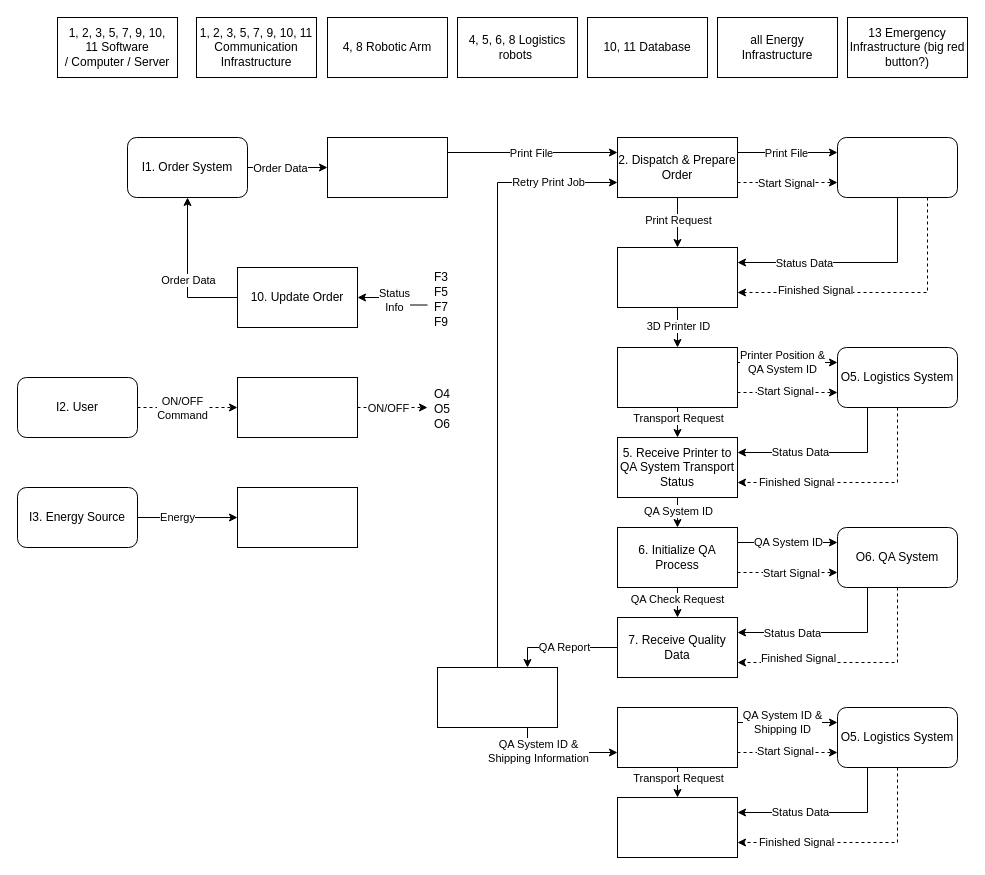
This 985x875 diagram has some shape labels left out. The shapes that lost their labels are listed below. From the top down, each one's centre as x and y in pixels, then its label:
At (x=387, y=167): "1. Receive Print Order".
At (x=897, y=167): "O4. 3D Printer".
At (x=677, y=277): "3. Receive Printing Status".
At (x=677, y=377): "4. Pick up Printed Product".
At (x=297, y=407): "13. Receive emergency Signal".
At (x=297, y=517): "12. Receive Electricity".
At (x=497, y=697): "11. Handle Quality Information".
At (x=677, y=737): "8. Pick up Checked Product".
At (x=677, y=827): "9. Receive QA to Storage System Transport Status".
